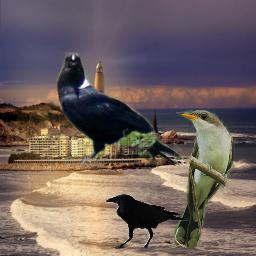Crow: (55, 52, 184, 168), (105, 194, 189, 250)
Cuckoo: (174, 110, 235, 248)
